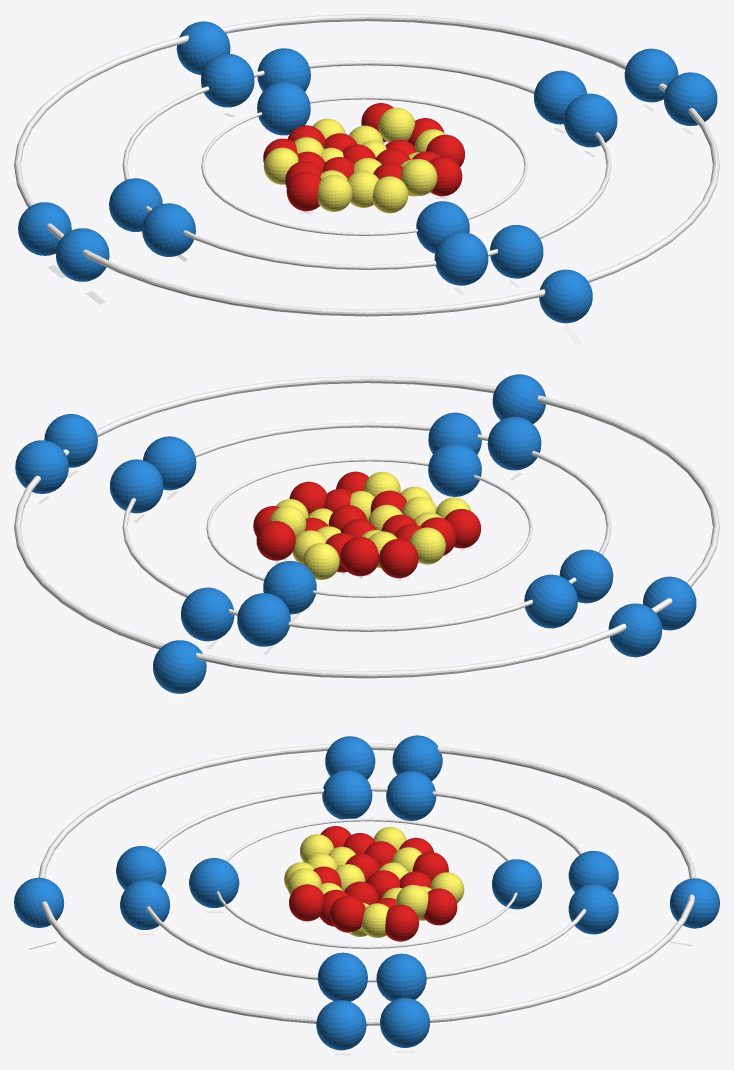
The picture shows the model from 3 angles, top to bottom: view 1: azimuth 30°, elevation 25°; view 2: azimuth 150°, elevation 25°; view 3: azimuth 270°, elevation 25°; orthographic projection. The views are drawn at different scales.
Parts seen in each view (by area): view 1: Torus.003, Torus.002, Torus.001, -.008, -.004, -.005, -.013, -.002, -.003, -.001, -.015, -.014 (+16 smaller); view 2: Torus.003, Torus.002, Torus.001, -.004, -, -.008, -.009, -.006, -.012, -.007, -.010, -.011 (+20 smaller); view 3: Torus.003, Torus.002, Torus.001, -.015, -.010, -.006, -.003, -.002, -, -.001, -.009, -.007 (+20 smaller).
Boxes of the visible parts, x1=… form: Torus.003: x1=14, y1=14, x2=719, y2=316; Torus.002: x1=122, y1=60, x2=611, y2=269; Torus.001: x1=201, y1=96, x2=527, y2=235; -.008: x1=434, y1=232, x2=488, y2=285; -.004: x1=201, y1=53, x2=254, y2=107; -.005: x1=490, y1=225, x2=543, y2=278; -.013: x1=539, y1=269, x2=592, y2=323; -.002: x1=564, y1=93, x2=617, y2=147; -.003: x1=142, y1=203, x2=195, y2=256; -.001: x1=257, y1=81, x2=310, y2=135; -.015: x1=664, y1=72, x2=717, y2=125; -.014: x1=55, y1=228, x2=109, y2=281; Torus.003: x1=14, y1=376, x2=719, y2=678; Torus.002: x1=122, y1=422, x2=611, y2=631; Torus.001: x1=206, y1=458, x2=532, y2=597; -.004: x1=237, y1=593, x2=290, y2=646; -: x1=428, y1=443, x2=481, y2=496; -.008: x1=487, y1=416, x2=541, y2=470; -.009: x1=181, y1=587, x2=234, y2=641; -.006: x1=524, y1=574, x2=577, y2=628; -.012: x1=153, y1=640, x2=206, y2=693; -.007: x1=110, y1=459, x2=163, y2=513; -.010: x1=15, y1=440, x2=68, y2=493; -.011: x1=608, y1=603, x2=661, y2=657; Torus.003: x1=38, y1=743, x2=695, y2=1025; Torus.002: x1=146, y1=787, x2=586, y2=982; Torus.001: x1=216, y1=818, x2=517, y2=948; -.015: x1=316, y1=1000, x2=366, y2=1050; -.010: x1=380, y1=997, x2=429, y2=1047; -.006: x1=386, y1=771, x2=436, y2=820; -.003: x1=322, y1=770, x2=372, y2=819; -.002: x1=317, y1=952, x2=367, y2=1001; -: x1=189, y1=858, x2=239, y2=907; -.001: x1=492, y1=859, x2=541, y2=909; -.009: x1=568, y1=884, x2=618, y2=934; -.007: x1=376, y1=953, x2=426, y2=1001.
Bounding box in the file's own units: 6.51 × 0.7994 × 6.54.
